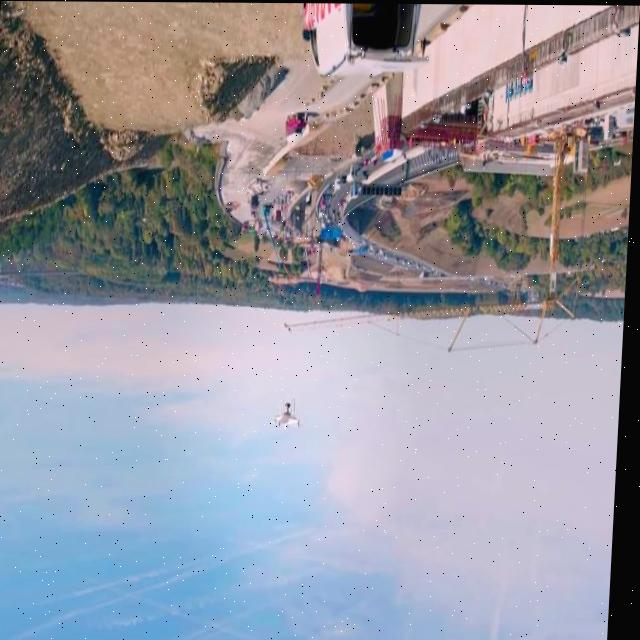drone: (273, 394, 309, 433)
